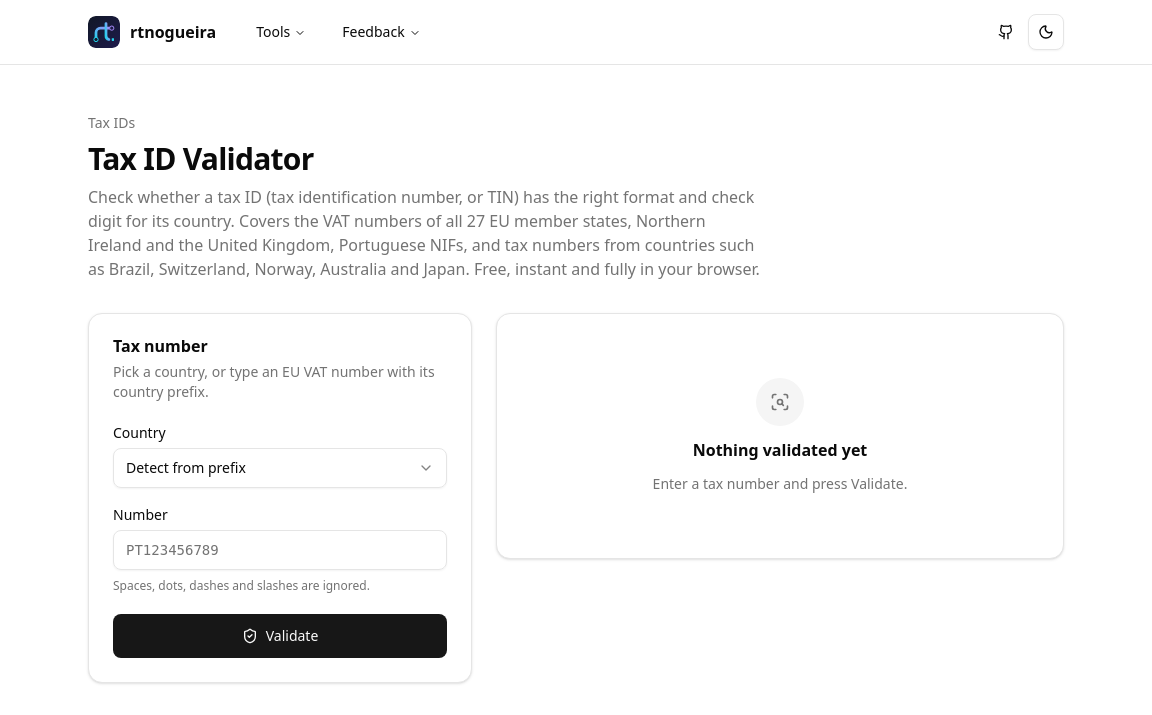
Test: Tax ID validator page › searches the grouped country list
The width and height of the screenshot is (1152, 715).
Expected: the heading "Tax ID Validator" is shown, [88, 138, 314, 179]
Click the dropdown named "Country" at x=186, y=468, box [113, 448, 447, 488]
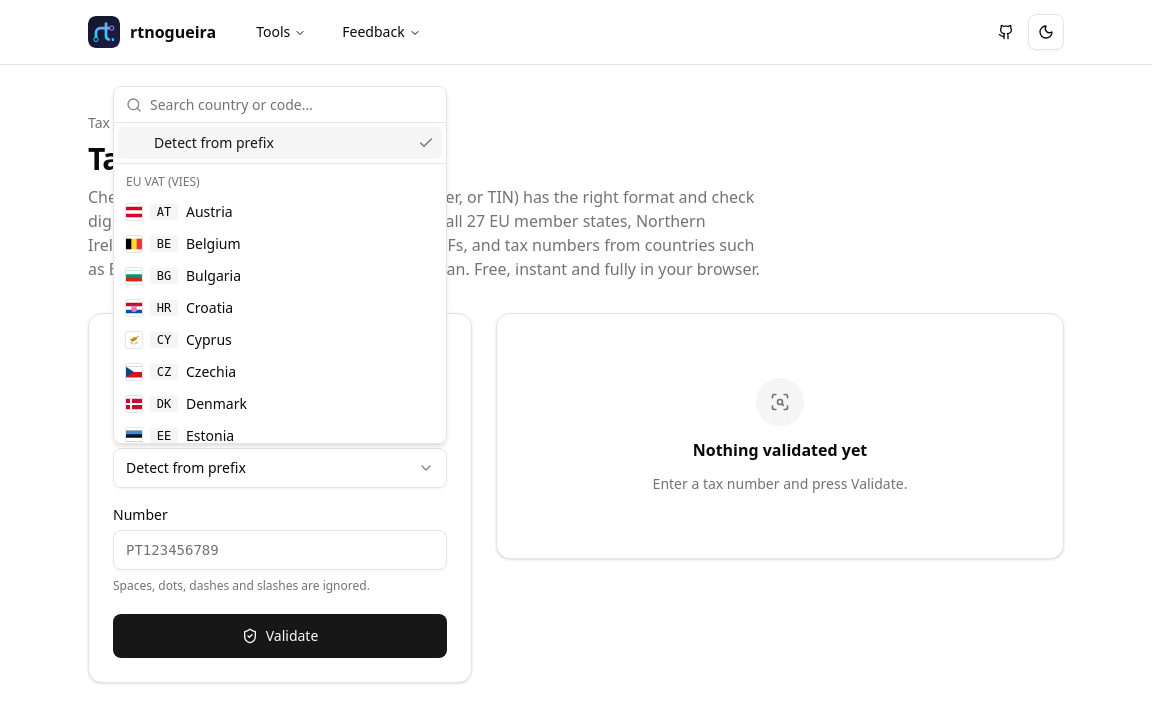
Type "bra" into the dropdown named "Search countries" at x=292, y=104, box [150, 84, 434, 124]
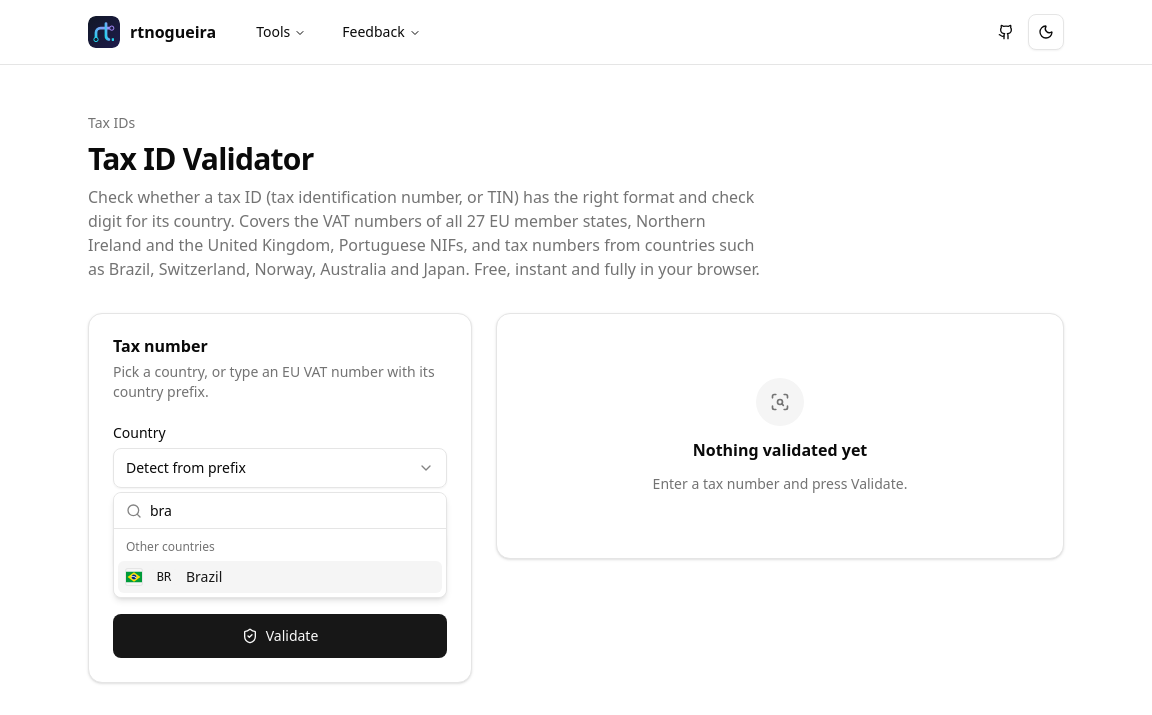
Now the option "BR Brazil" is shown
Now the text "EU VAT (VIES)" is gone
Now the text "Other countries" is shown, box [126, 538, 215, 555]
Click the option "BR Brazil" at x=204, y=576, box [118, 561, 442, 593]
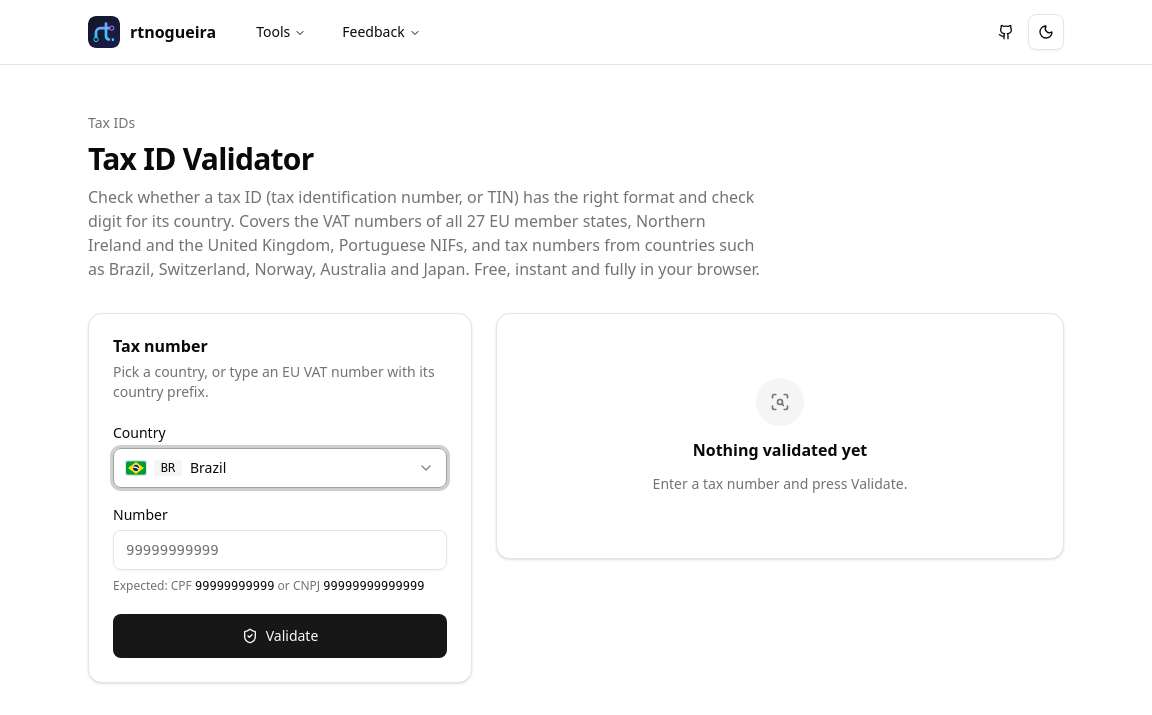
Now the dropdown named "Country" shows "Brazil", box [113, 448, 447, 488]
